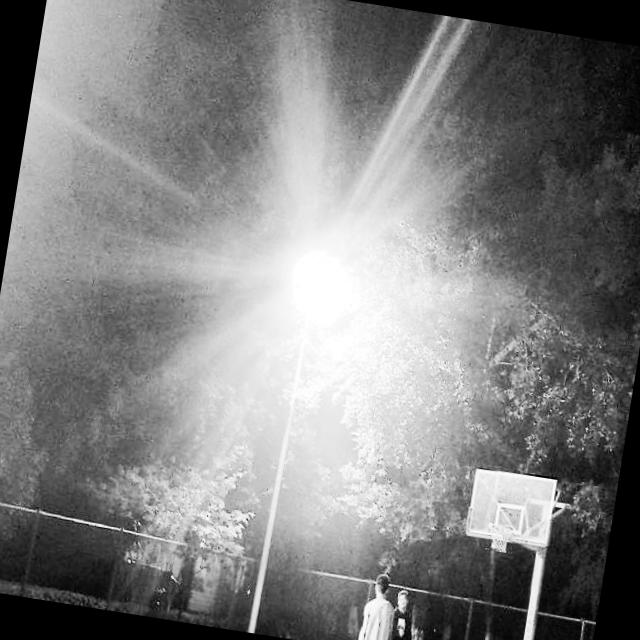Light: (147, 130, 462, 509)
